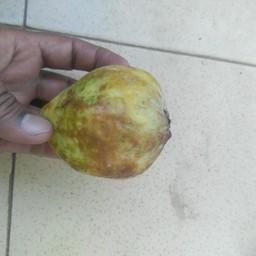Bad_guava: (37, 62, 173, 184)
